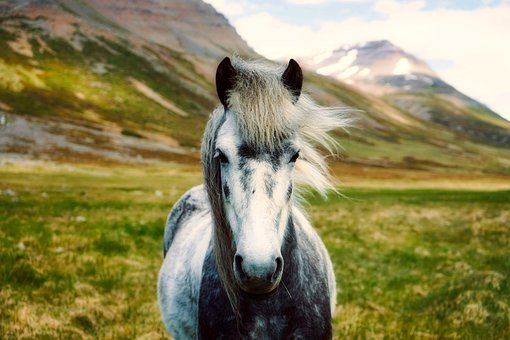mountain: (3, 5, 501, 162)
